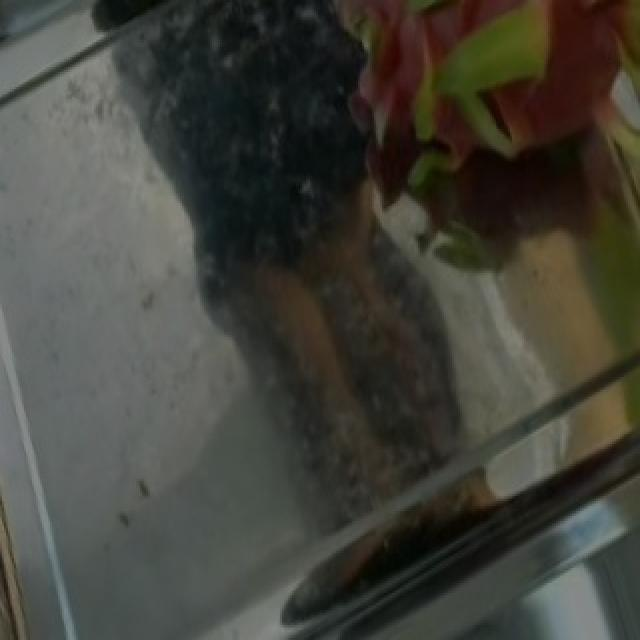fruit: (256, 0, 638, 347)
